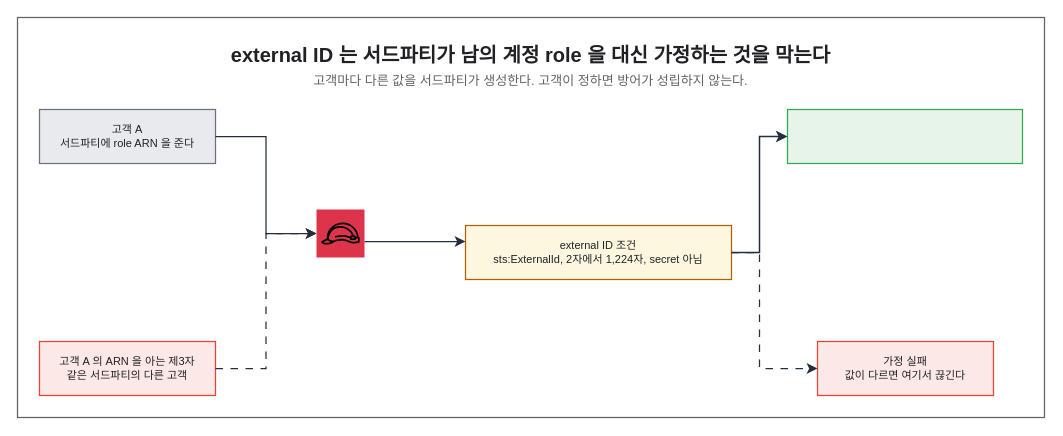
Some shapes in this 1063 by 436 pixel diagram are drawn without their labels. The shapes that lost their labels are listed below. From the top down, each one's box as (x1, y1, x2, y2) in pixels, then its label:
(786, 108, 1023, 164): 고객 A 의 role trust policy 가 external ID 일치를 요구
(316, 209, 364, 257): 서드파티 서비스 여러 고객 role 을 가정한다
